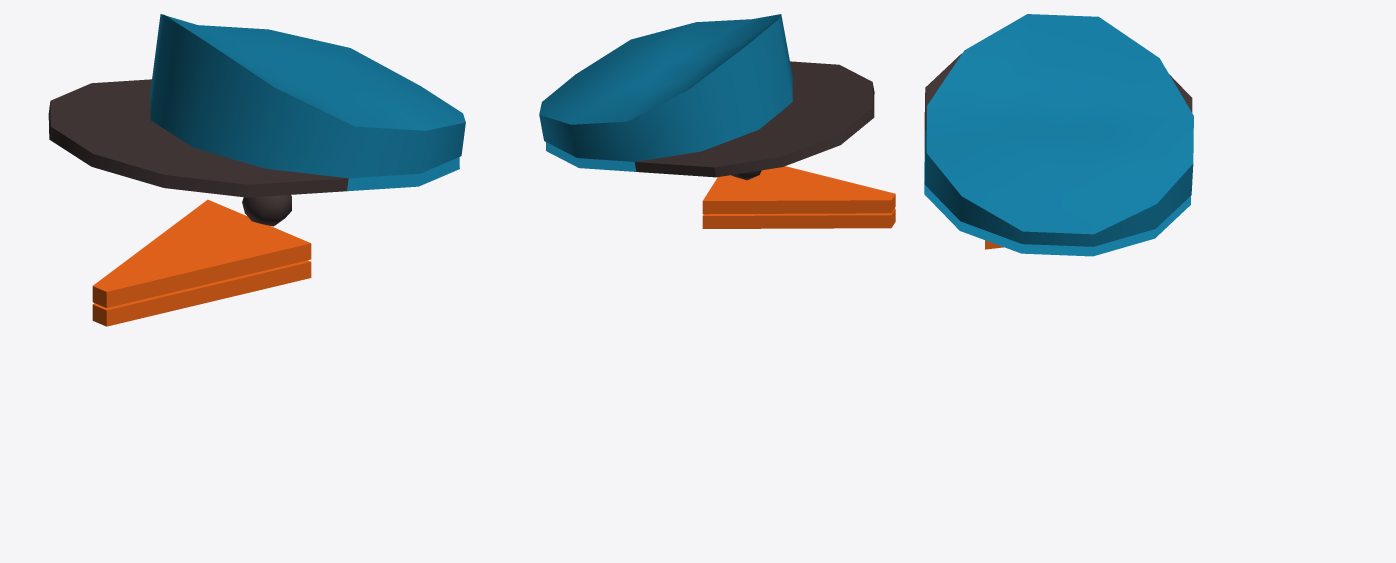
The model's file is The_Captain.FBX.
3 views of the same model, side by side, from view 1: azimuth 30°, elevation 25°; view 2: azimuth 150°, elevation 25°; view 3: azimuth 270°, elevation 25° (orthographic). The views are drawn at different scales.
Parts seen in each view (by area): view 1: GeoSphere001; view 2: GeoSphere001; view 3: GeoSphere001.
Boxes of the visible parts, x1=… form: GeoSphere001: x1=48, y1=14, x2=465, y2=326; GeoSphere001: x1=539, y1=14, x2=895, y2=228; GeoSphere001: x1=924, y1=14, x2=1193, y2=256.
Bounding box in the file's own units: 14.61 × 21.08 × 17.78.
